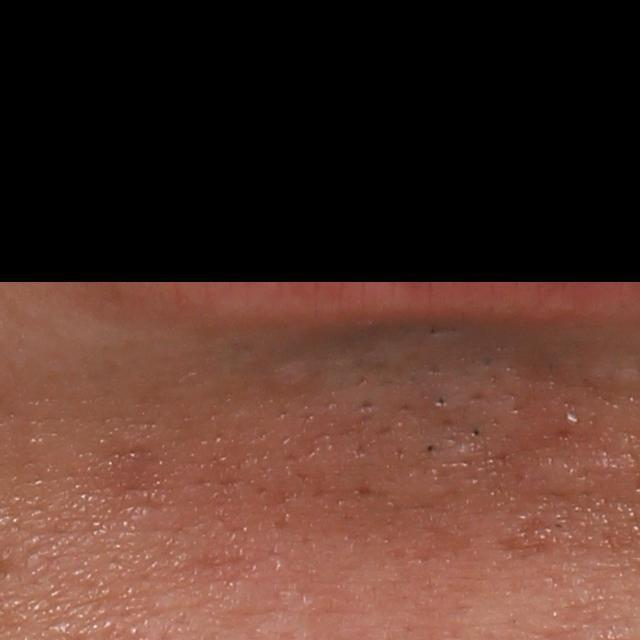hypertrophic_scar: (527, 450, 598, 500), (264, 356, 315, 393)
